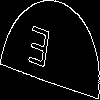E: (25, 25, 52, 78)
